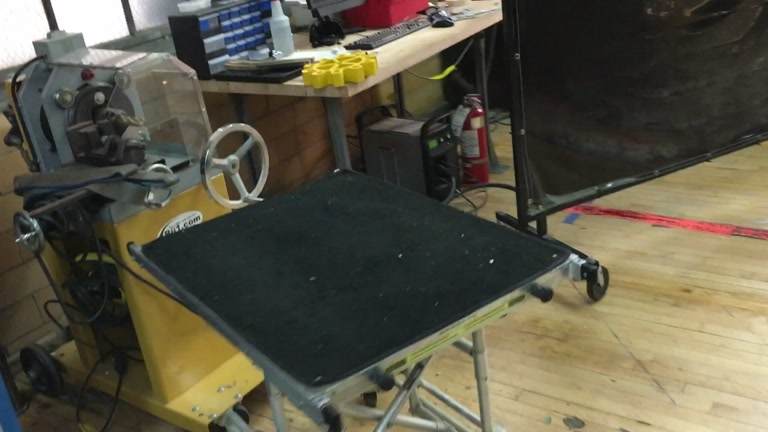gear: (301, 49, 377, 92)
